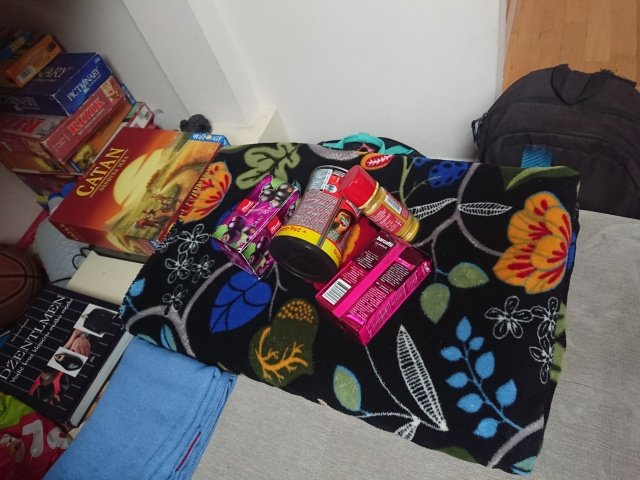Barcaffe Classic Original 225g: (312, 228, 436, 349)
Franck Black Currant Tea 60g: (207, 171, 312, 282)
Kotanyi Curry Spices Mix 70g: (336, 163, 423, 246)
Nescafe Classic 225g: (268, 162, 369, 285)
